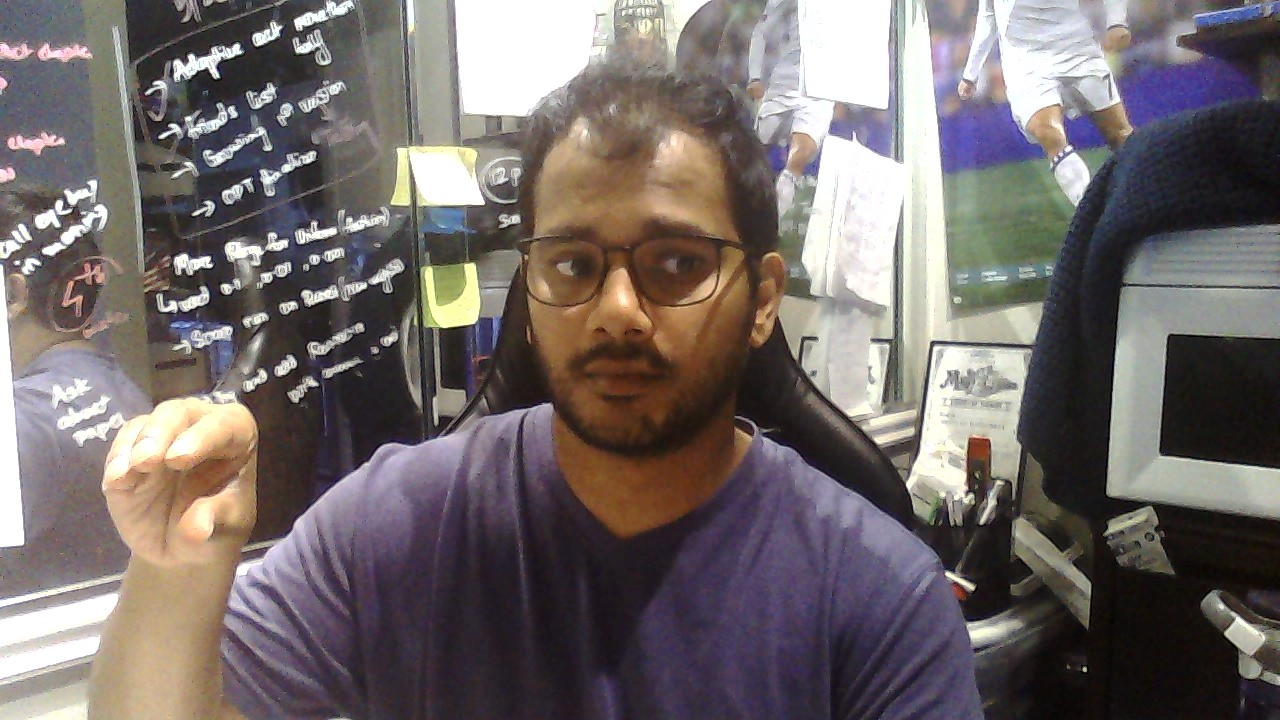No: (100, 397, 257, 567)
